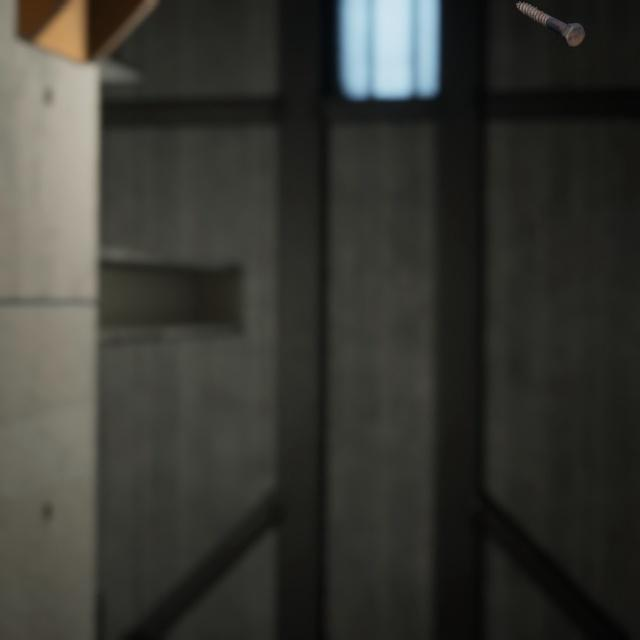bolt: (513, 0, 589, 43)
